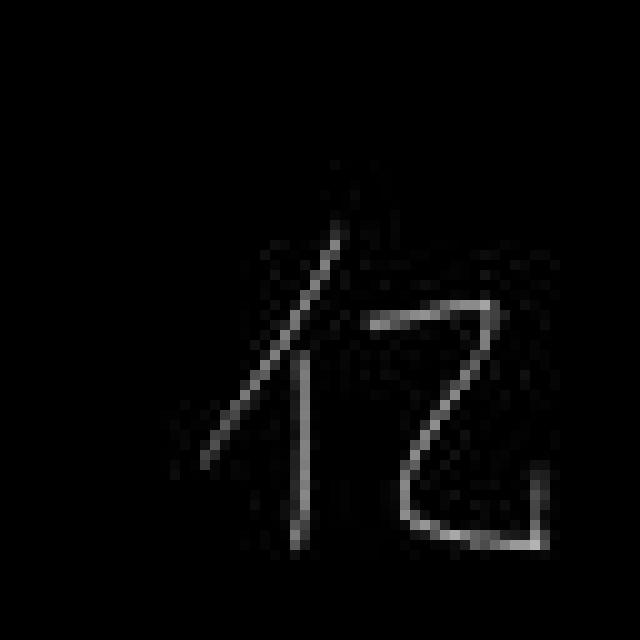100000 -a hundred thousand-: (181, 218, 558, 570)
